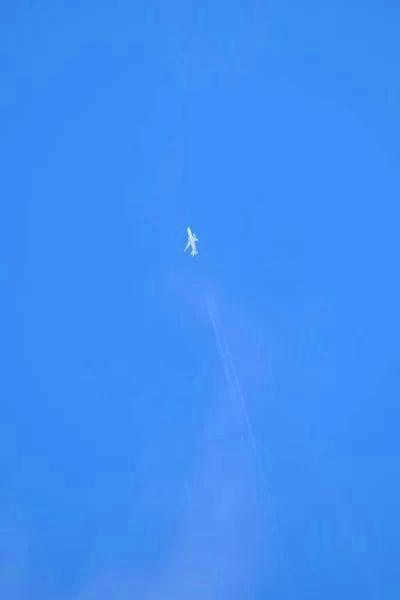Plane: (174, 214, 208, 268)
